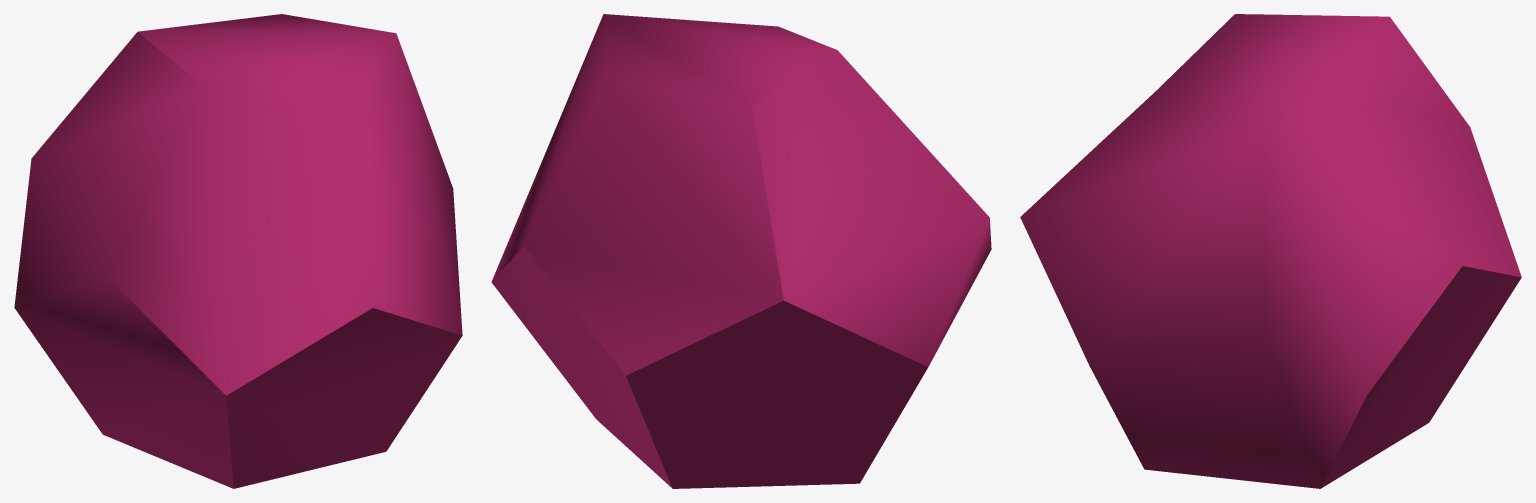
Rendered from rock_one.fbx.
3 renders of one model, left to right at view 1: azimuth 30°, elevation 25°; view 2: azimuth 150°, elevation 25°; view 3: azimuth 270°, elevation 25°, orthographic. The views are drawn at different scales.
Parts seen in each view (by area): view 1: rock_one; view 2: rock_one; view 3: rock_one.
Part boxes in pixels (left/top/right/bottom): rock_one: left=14, top=14, right=462, bottom=488; rock_one: left=491, top=14, right=991, bottom=488; rock_one: left=1020, top=14, right=1521, bottom=488.
Bounding box in the file's own units: 187 × 164 × 193.
